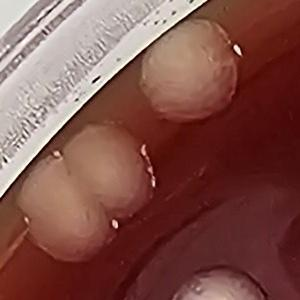colony: (3, 146, 122, 268), (132, 15, 249, 123), (56, 116, 166, 226), (162, 263, 277, 300)
